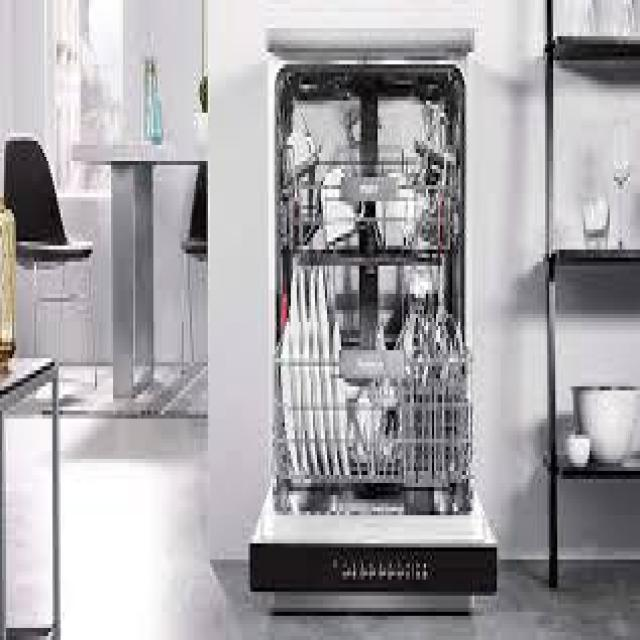dishwasher: (244, 12, 501, 620)
